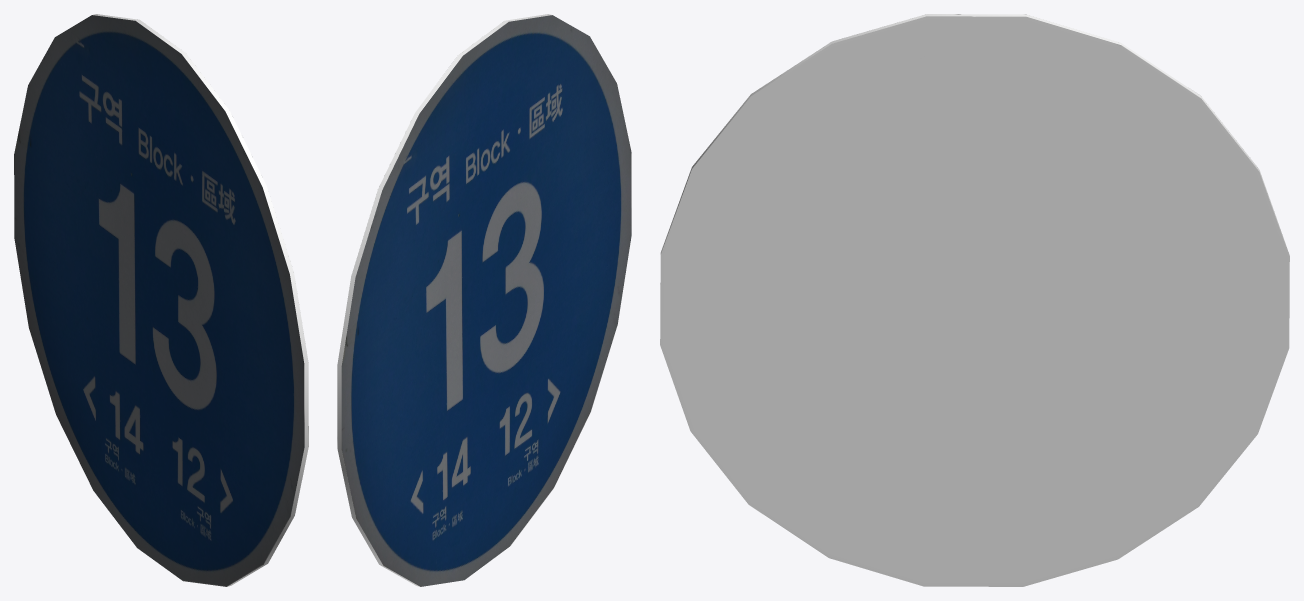
The model's file is SM_015_Seat_7_2.fbx.
The picture shows the model from 3 angles, left to right: view 1: azimuth 30°, elevation 25°; view 2: azimuth 150°, elevation 25°; view 3: azimuth 270°, elevation 25°; orthographic projection. The views are drawn at different scales.
Parts seen in each view (by area): view 1: SM_015_Seat_7_2; view 2: SM_015_Seat_7_2; view 3: SM_015_Seat_7_2.
Boxes of the visible parts, x1,y1,x2,y2 form: SM_015_Seat_7_2: (14, 14, 308, 586); SM_015_Seat_7_2: (337, 14, 631, 586); SM_015_Seat_7_2: (660, 14, 1289, 586).
Size of the model in its own units: 0.3841 by 44.73 by 44.73.
Materials: 1 (1 with a texture image).
